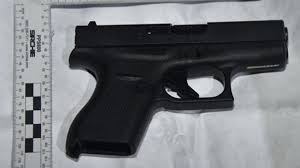gun: (60, 15, 292, 161)
